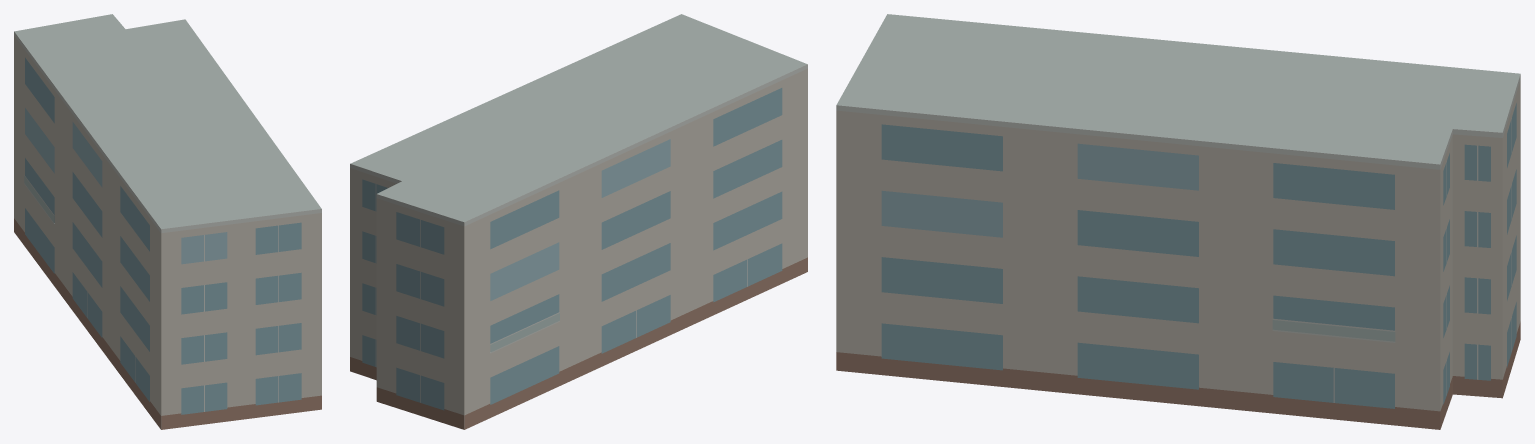
The model's file is survey-upis-32705484.glb.
3 renders of one model, left to right at view 1: azimuth 30°, elevation 25°; view 2: azimuth 150°, elevation 25°; view 3: azimuth 270°, elevation 25°, orthographic. The views are drawn at different scales.
Parts seen in each view (by area): view 1: survey-upis-32705484.tmp; view 2: survey-upis-32705484.tmp; view 3: survey-upis-32705484.tmp.
Part boxes in pixels (x1,y1,x2,y2): survey-upis-32705484.tmp: (14,14,321,429); survey-upis-32705484.tmp: (350,14,807,429); survey-upis-32705484.tmp: (836,14,1520,429).
Size of the model in its own units: 14.85 by 12.2 by 28.53.
